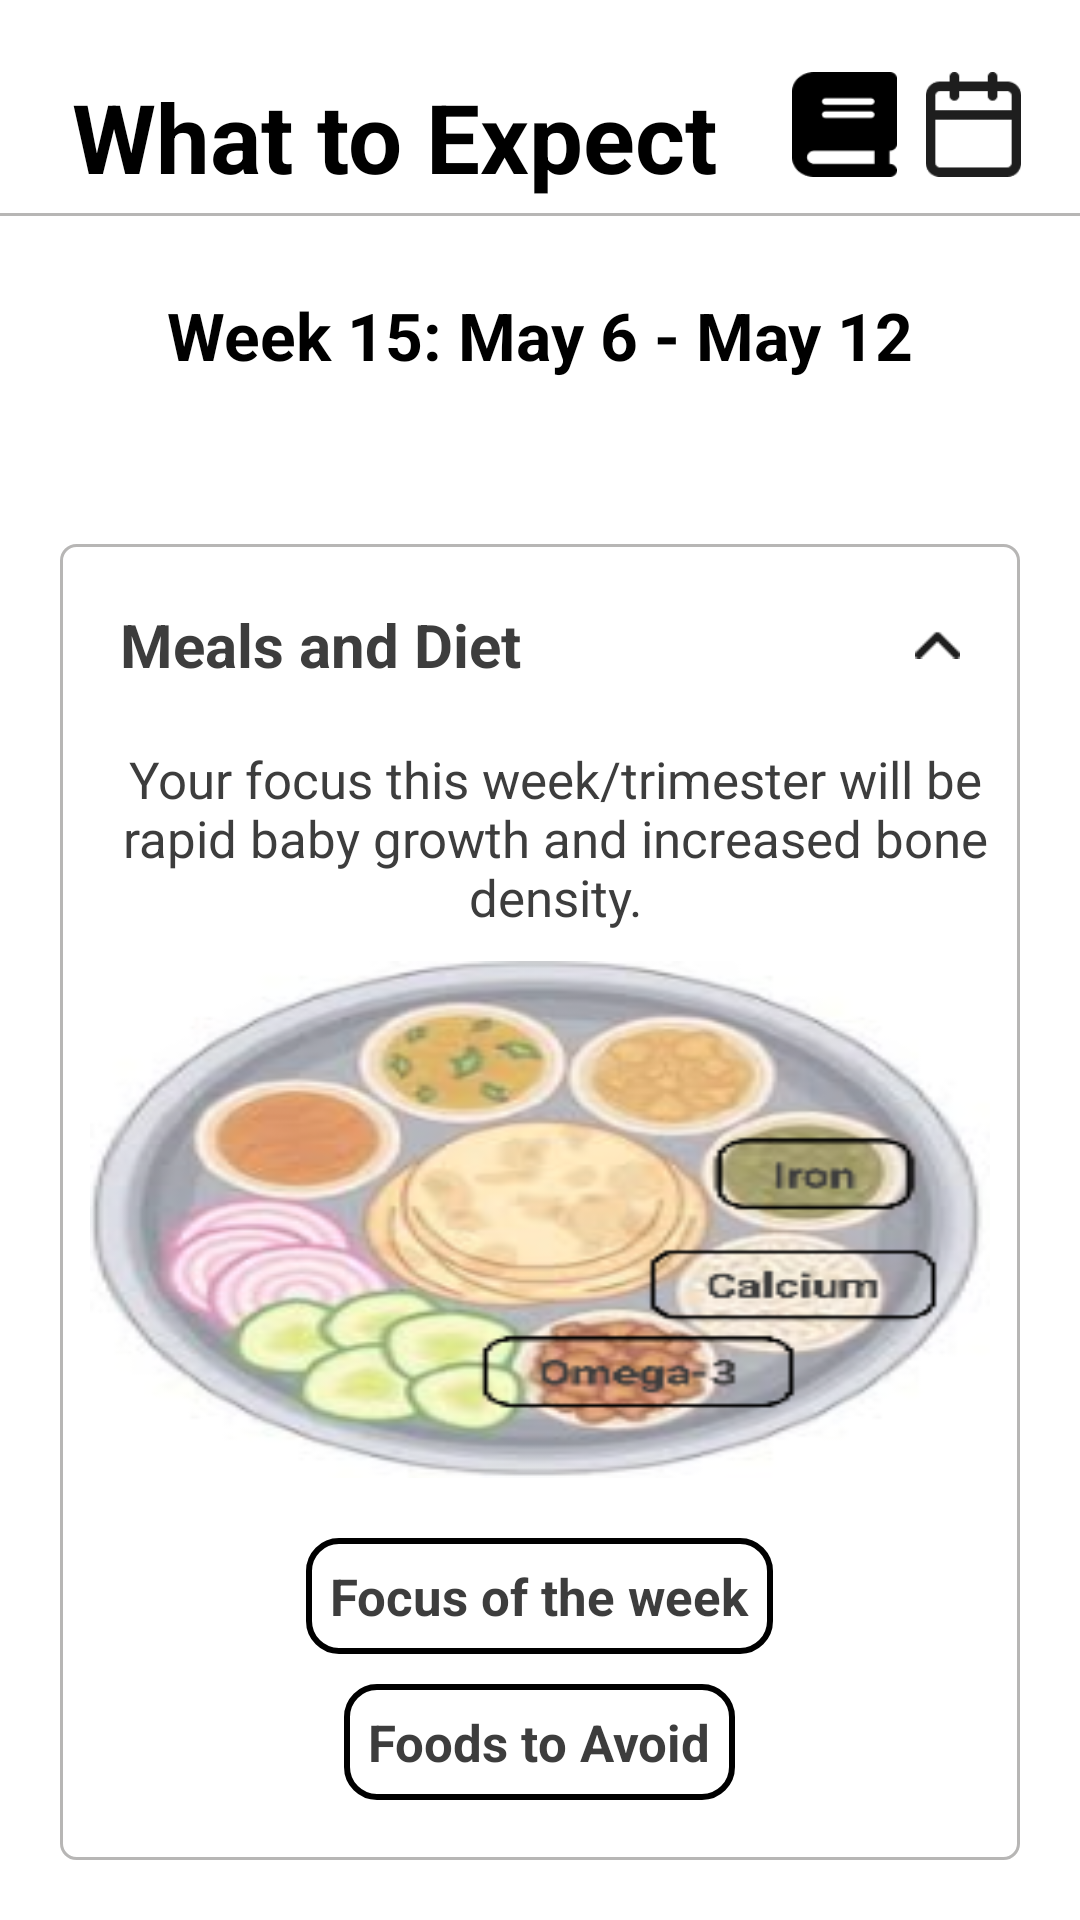

Icons on this 1080 x 1920 Android screen, each with the point to tap as point (x, y):
date: point (973, 124)
notes: point (844, 124)
top arrow: point (937, 645)
